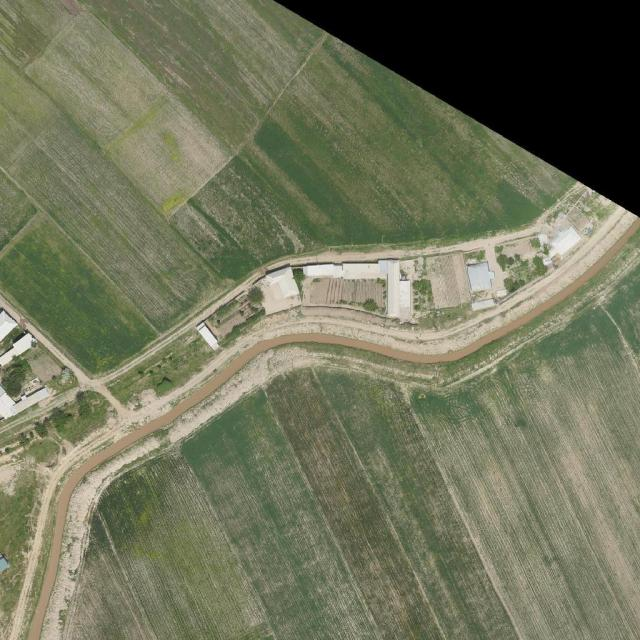agricultural_land: (425, 252, 470, 310), (302, 277, 385, 308)
building: (253, 266, 304, 317), (0, 386, 51, 419), (0, 331, 37, 368), (548, 224, 582, 257), (465, 261, 493, 293), (386, 259, 400, 317), (342, 262, 386, 279), (304, 264, 333, 276), (399, 280, 410, 308)
greenland: (106, 325, 220, 420), (0, 458, 40, 626), (202, 288, 262, 342), (494, 245, 549, 295), (19, 343, 64, 387), (42, 419, 95, 448), (563, 203, 596, 237), (465, 261, 494, 293), (74, 389, 93, 418), (22, 425, 39, 442), (580, 190, 590, 201)
